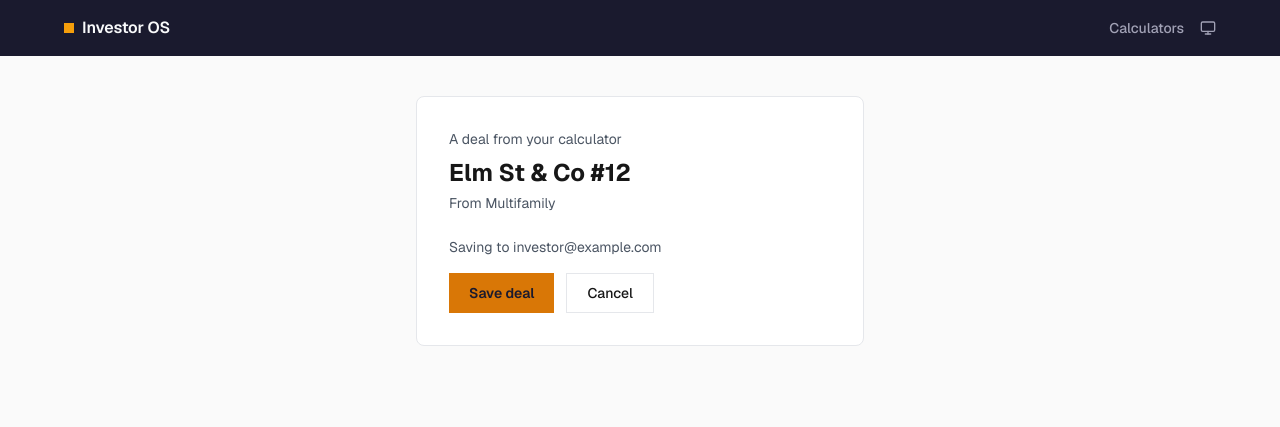
/import, signed in › keeps the stash and shows an error when the server refuses
What coordinates should you click on to do the following:
click the button "Save deal"
I would click on:
 (502, 293)
Its box is [449, 273, 554, 313].
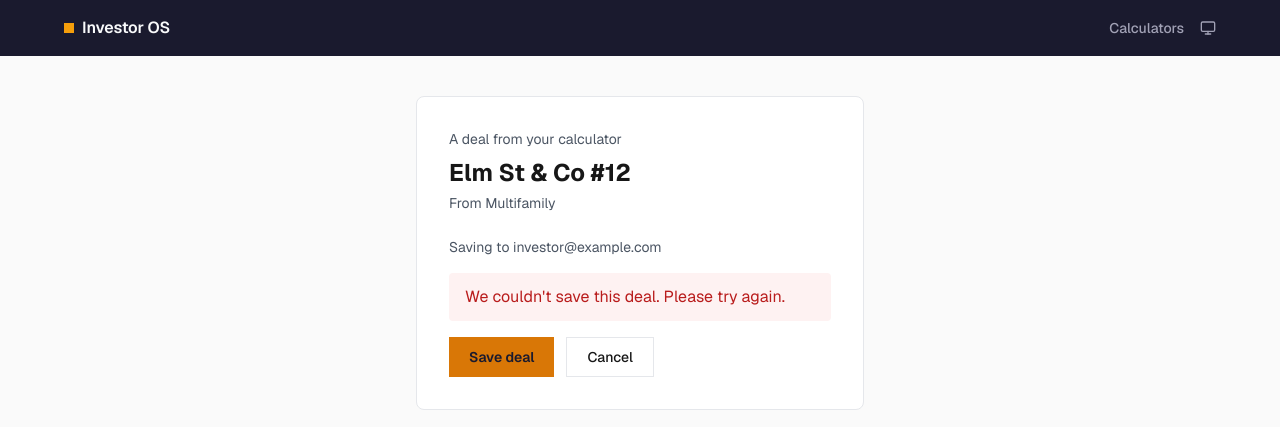
Expected: the button "Save deal" is enabled, [449, 337, 554, 377]
Expected: the text "We couldn't save this deal. Please try again." is shown, [449, 273, 831, 321]
